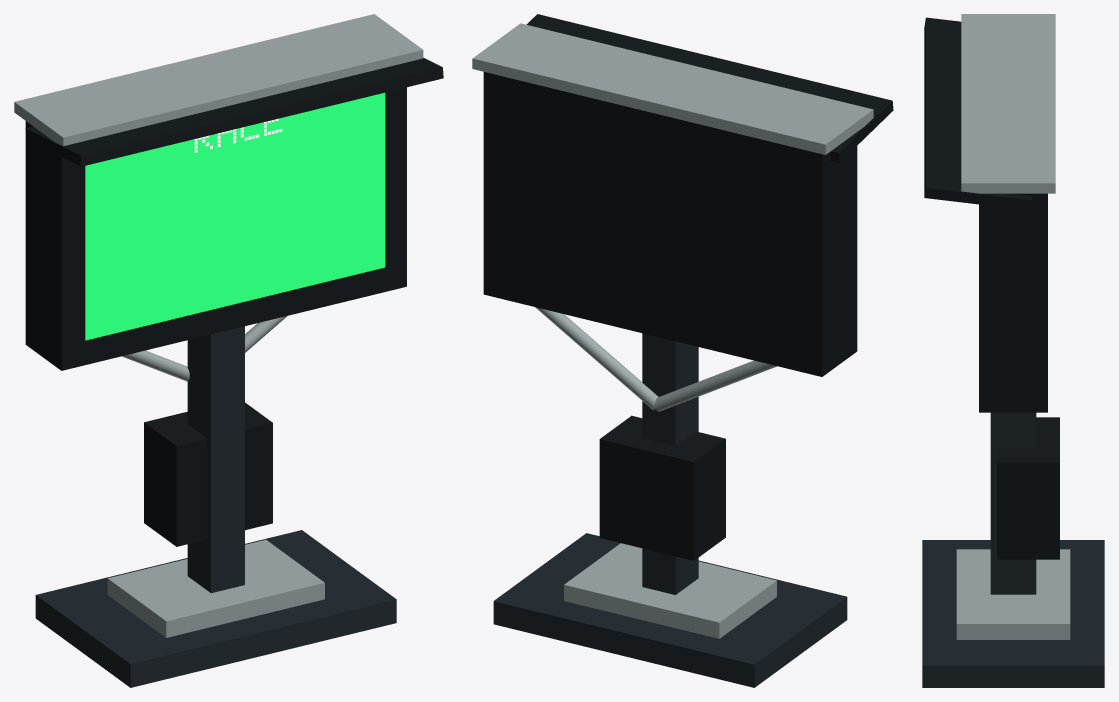
The model's file is race-marshal-panel-lod1.glb.
3 views of the same model, side by side, from view 1: azimuth 30°, elevation 25°; view 2: azimuth 150°, elevation 25°; view 3: azimuth 270°, elevation 25° (orthographic). The views are drawn at different scales.
Visible parts, largest first — view 1: housing__Moulded_carbon_housing, flag-display-led__Marshal_display_—_addressable, frame__Brushed_aluminium, frame__Powder-coated_graphite_frame, FlagPanel_Display; view 2: housing__Moulded_carbon_housing, frame__Brushed_aluminium, frame__Powder-coated_graphite_frame; view 3: housing__Moulded_carbon_housing, frame__Brushed_aluminium, frame__Powder-coated_graphite_frame.
Boxes of the visible parts, left/top/right/bottom form: housing__Moulded_carbon_housing: left=25, top=57, right=443, bottom=546; flag-display-led__Marshal_display_—_addressable: left=88, top=112, right=384, bottom=317; frame__Brushed_aluminium: left=14, top=14, right=423, bottom=637; frame__Powder-coated_graphite_frame: left=35, top=326, right=396, bottom=687; FlagPanel_Display: left=85, top=92, right=385, bottom=340; housing__Moulded_carbon_housing: left=483, top=14, right=893, bottom=560; frame__Brushed_aluminium: left=472, top=23, right=873, bottom=638; frame__Powder-coated_graphite_frame: left=493, top=333, right=847, bottom=687; housing__Moulded_carbon_housing: left=924, top=17, right=1059, bottom=559; frame__Brushed_aluminium: left=956, top=14, right=1070, bottom=639; frame__Powder-coated_graphite_frame: left=922, top=412, right=1104, bottom=687.
Size of the model in its own units: 3.2 by 4.61 by 1.45.
